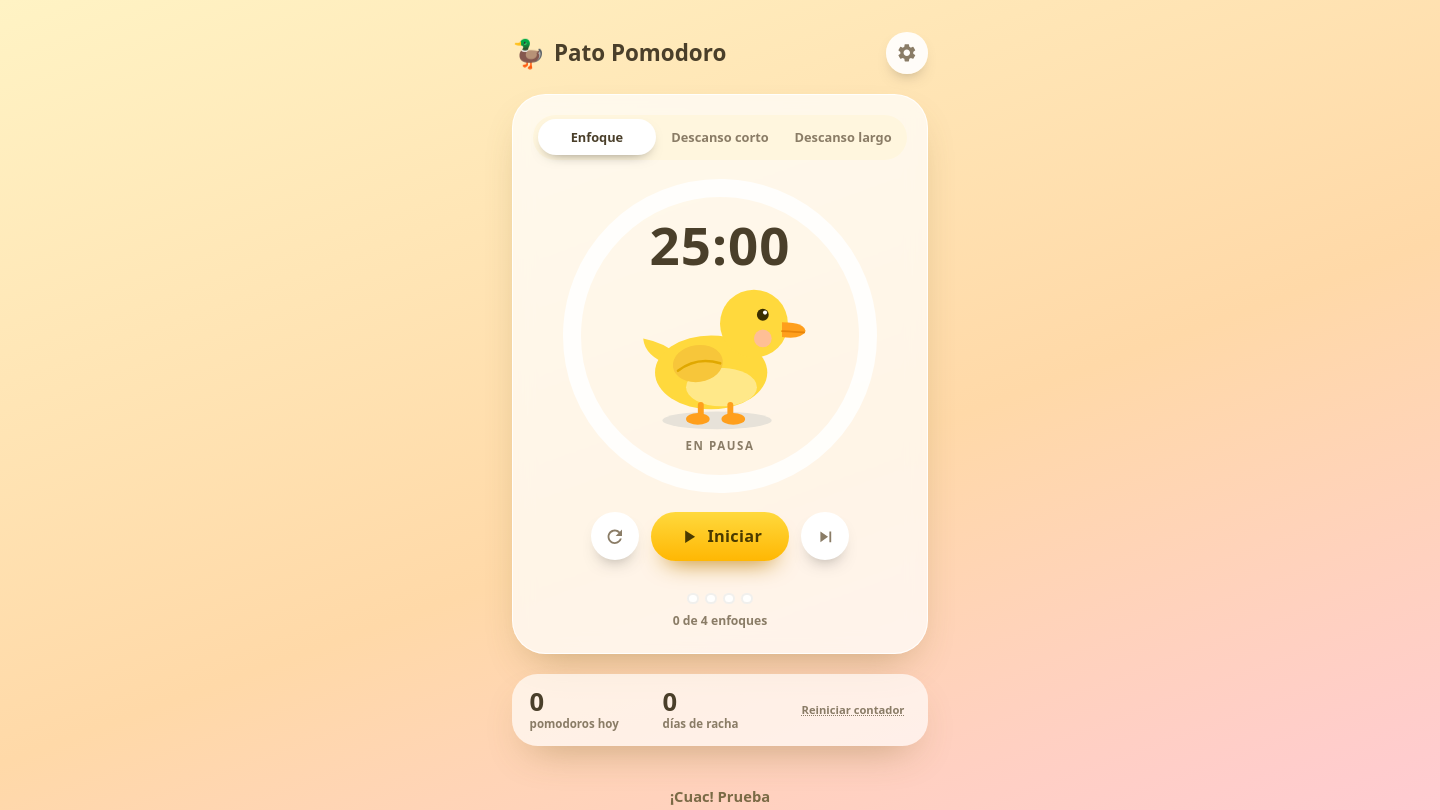
Test: App › salta al siguiente modo con el botón
The width and height of the screenshot is (1440, 810).
Expected: the text "¡Cuac! Prueba" is shown, [670,786,770,806]
Click the button named "saltar al siguiente modo" at (825, 536), box [801,512,849,560]
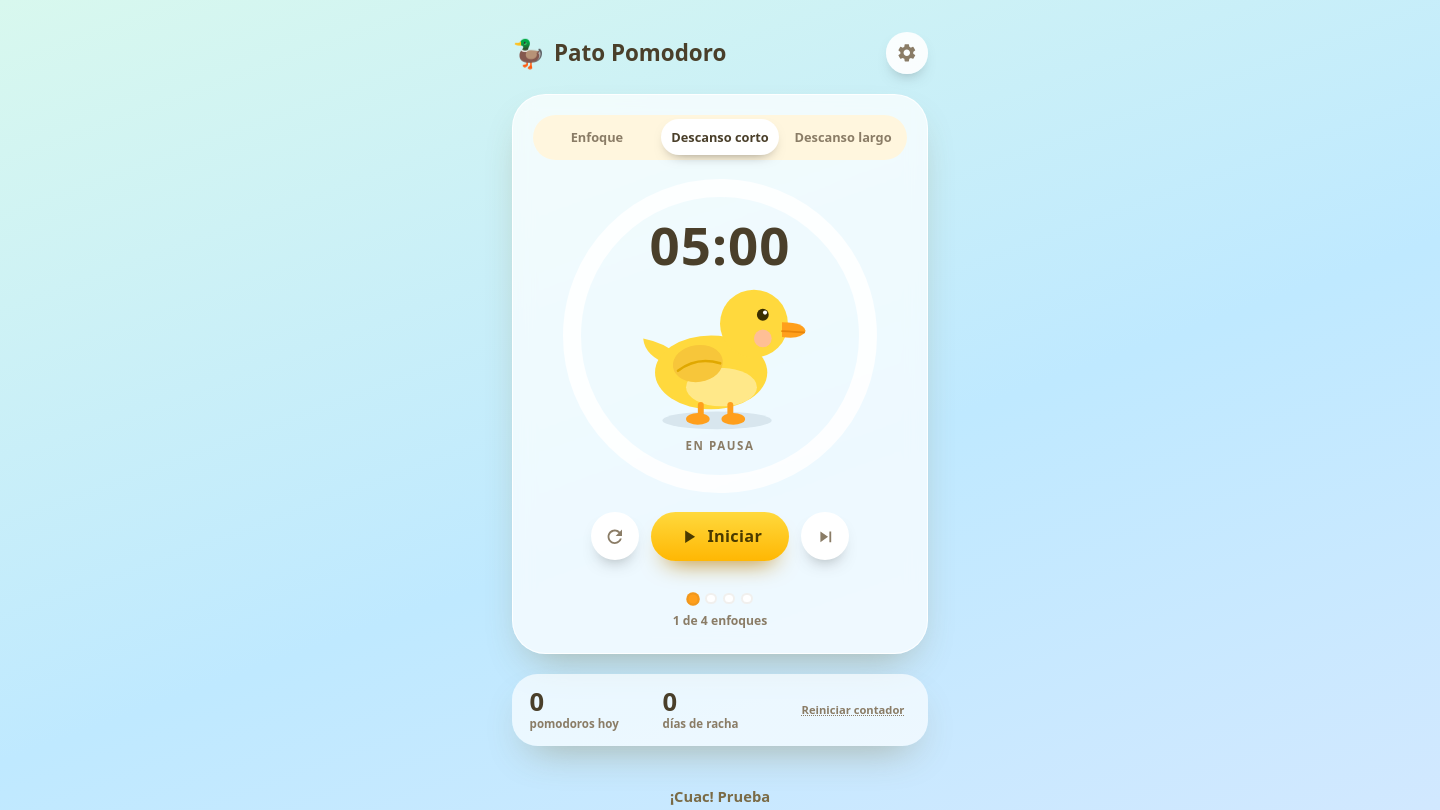
Expected: the text "1 de 4 enfoques" is shown, [673,612,767,629]
